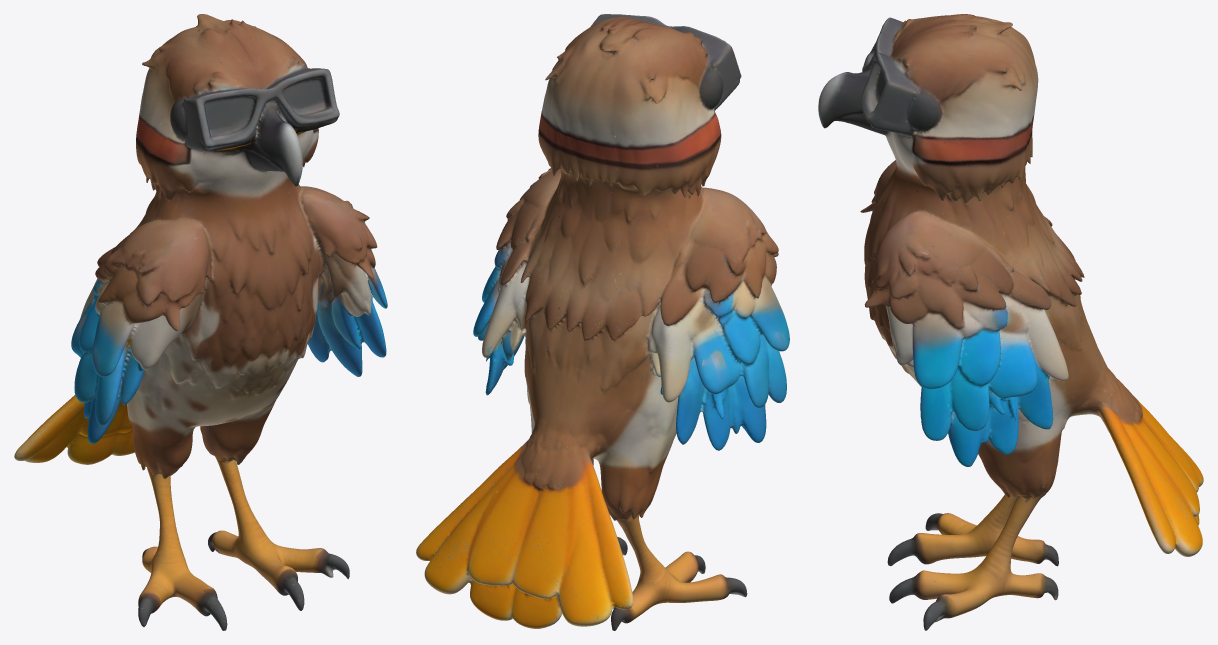
File: recon.glb
The picture shows the model from 3 angles, left to right: view 1: azimuth 30°, elevation 25°; view 2: azimuth 150°, elevation 25°; view 3: azimuth 270°, elevation 25°; orthographic projection.
Size of the model in its own units: 34604 by 65534 by 40492.
Materials: 1 (1 with a texture image).
